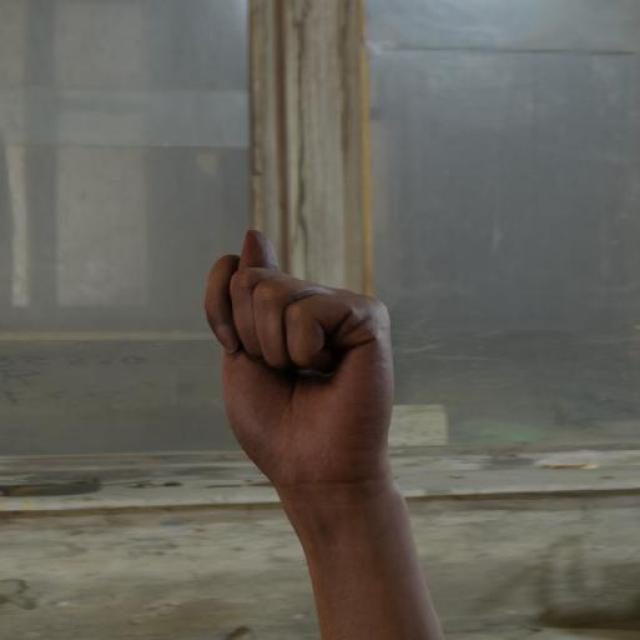T: (198, 222, 405, 496)
